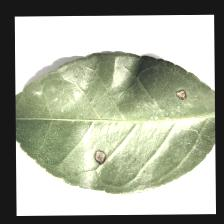canker: (70, 86, 203, 168)
